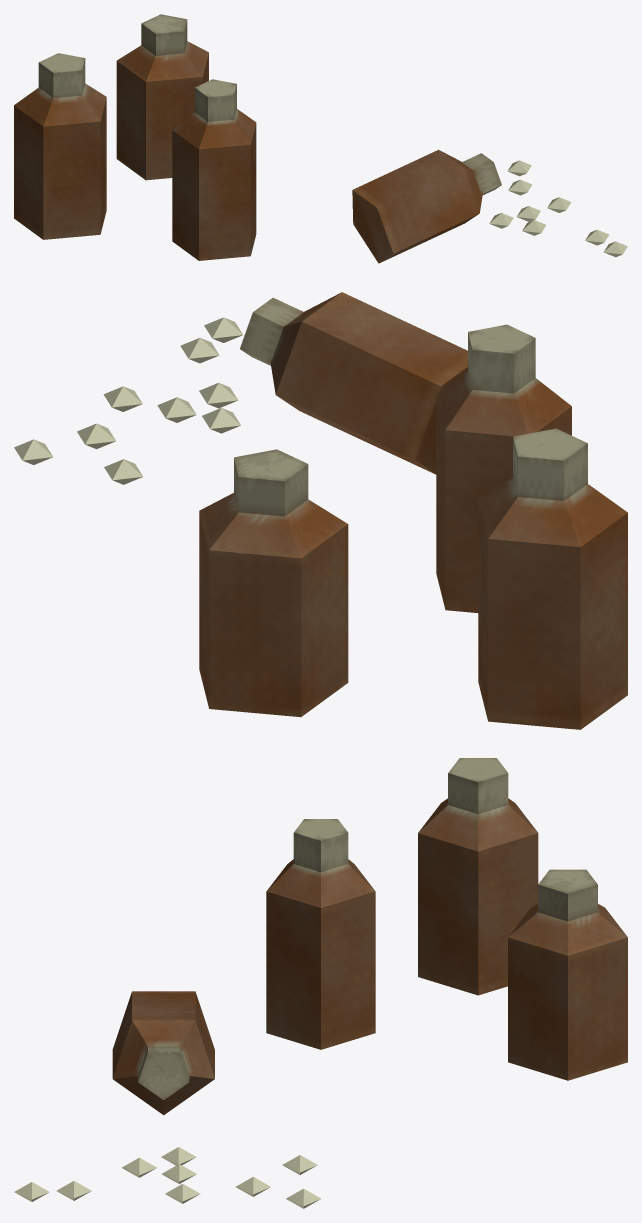
The model's file is Pill_Bottles_01.obj.
3 renders of one model, top to bottom at view 1: azimuth 30°, elevation 25°; view 2: azimuth 150°, elevation 25°; view 3: azimuth 270°, elevation 25°, orthographic. The views are drawn at different scales.
Parts seen in each view (by area): view 1: Pill_Bottles_01; view 2: Pill_Bottles_01; view 3: Pill_Bottles_01.
Part boxes in pixels (x1,y1,x2,y2): Pill_Bottles_01: (14, 14, 627, 263); Pill_Bottles_01: (14, 292, 627, 729); Pill_Bottles_01: (14, 758, 627, 1208).
Size of the model in its own units: 0.2839 by 0.0982 by 0.2734.
1 material, 1 textured.
